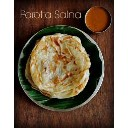parota: (33, 35, 89, 96)
